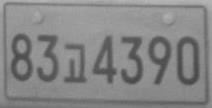0: (175, 35, 200, 85)
3: (120, 35, 144, 84), (36, 34, 60, 82)
4: (92, 33, 117, 84)
8: (9, 32, 34, 81)
9: (146, 35, 172, 84)
고: (63, 43, 87, 83)
